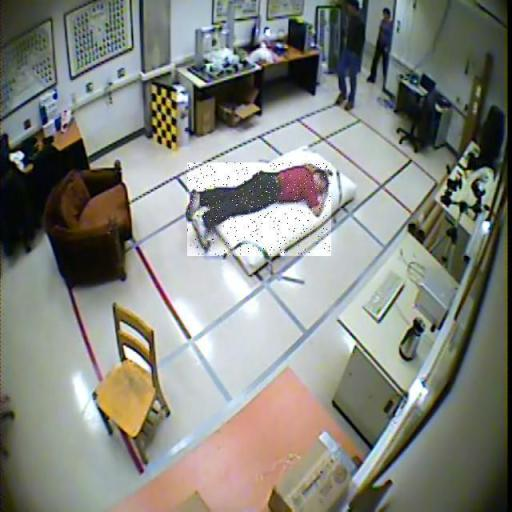Fall: (187, 162, 331, 256)
